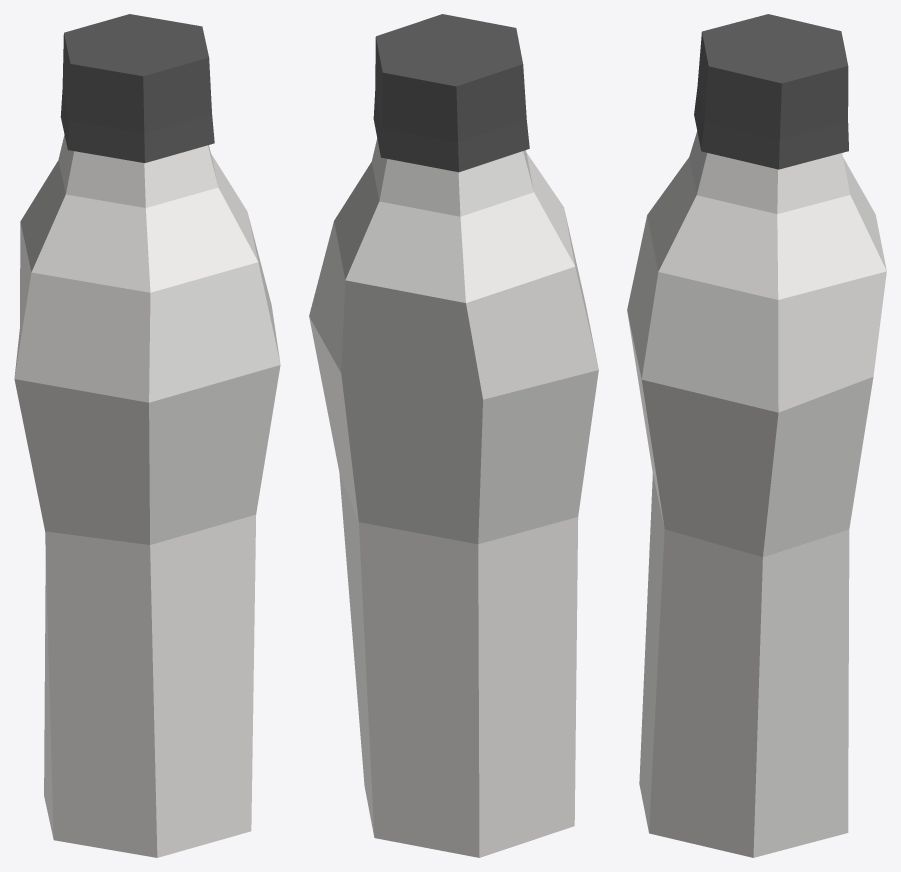
The model's file is Bottle_33.fbx.
3 renders of one model, left to right at view 1: azimuth 30°, elevation 25°; view 2: azimuth 150°, elevation 25°; view 3: azimuth 270°, elevation 25°, orthographic.
Parts seen in each view (by area): view 1: Bottle_33; view 2: Bottle_33; view 3: Bottle_33.
Part boxes in pixels (box(x1,y1,x2,y2)): Bottle_33: box(14, 14, 280, 857); Bottle_33: box(309, 14, 598, 857); Bottle_33: box(627, 14, 886, 857).
Bounding box in the file's own units: 17.34 × 14.26 × 46.52.
